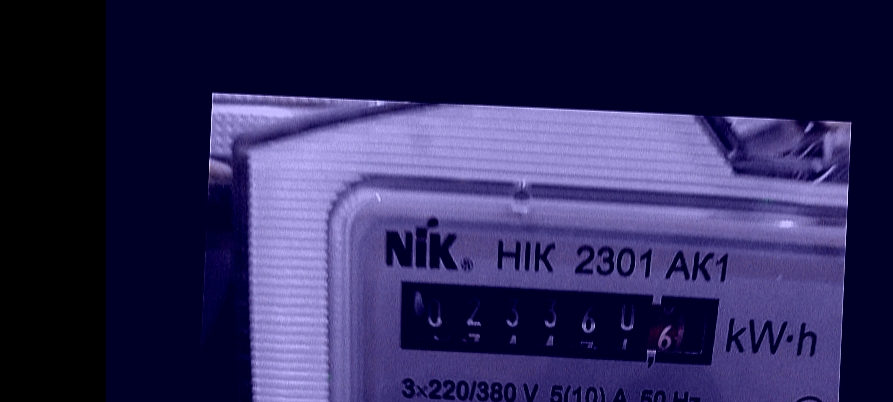0: (424, 293, 447, 329), (617, 298, 640, 334)
2: (464, 293, 486, 329)
3: (503, 294, 524, 330), (542, 295, 561, 330)
6: (579, 300, 600, 335), (656, 318, 675, 352)
screen: (385, 268, 740, 383)
